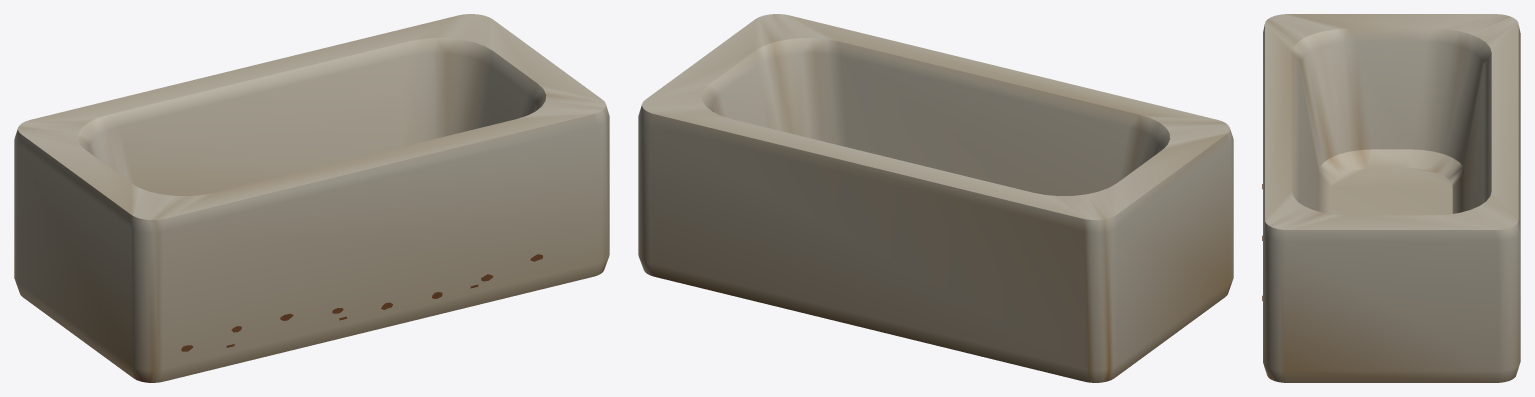
File: bathtub.glb
3 renders of one model, left to right at view 1: azimuth 30°, elevation 25°; view 2: azimuth 150°, elevation 25°; view 3: azimuth 270°, elevation 25°, orthographic. The views are drawn at different scales.
Parts seen in each view (by area): view 1: bathtub_metal; view 2: bathtub_metal; view 3: bathtub_metal.
Part boxes in pixels (box(x1,y1,x2,y2)): bathtub_metal: box(14, 14, 609, 382); bathtub_metal: box(638, 14, 1233, 382); bathtub_metal: box(1262, 14, 1520, 382).
Size of the model in its own units: 1.52 by 0.5 by 0.761.
